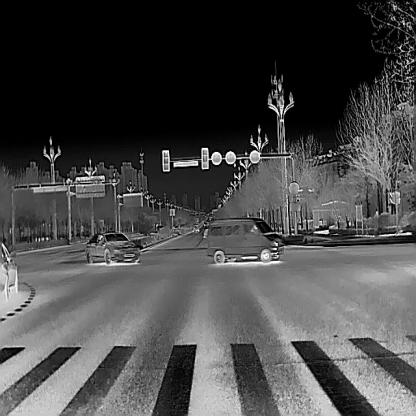car: (206, 216, 284, 263), (86, 230, 140, 265), (0, 240, 18, 300), (191, 224, 199, 233)
